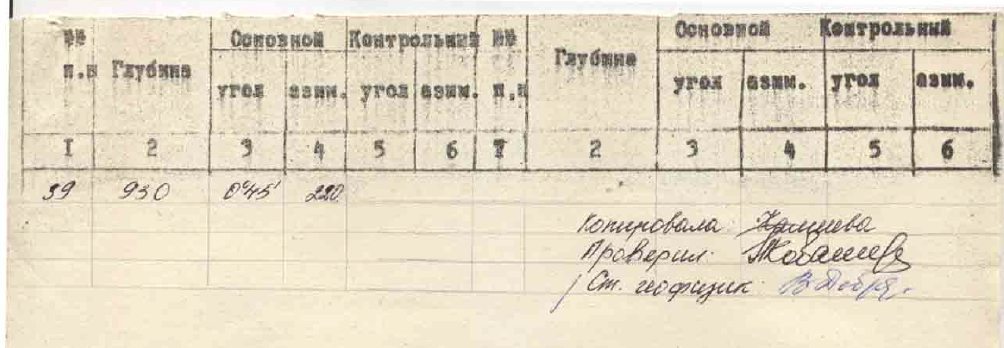Borderless: (24, 7, 998, 304)
